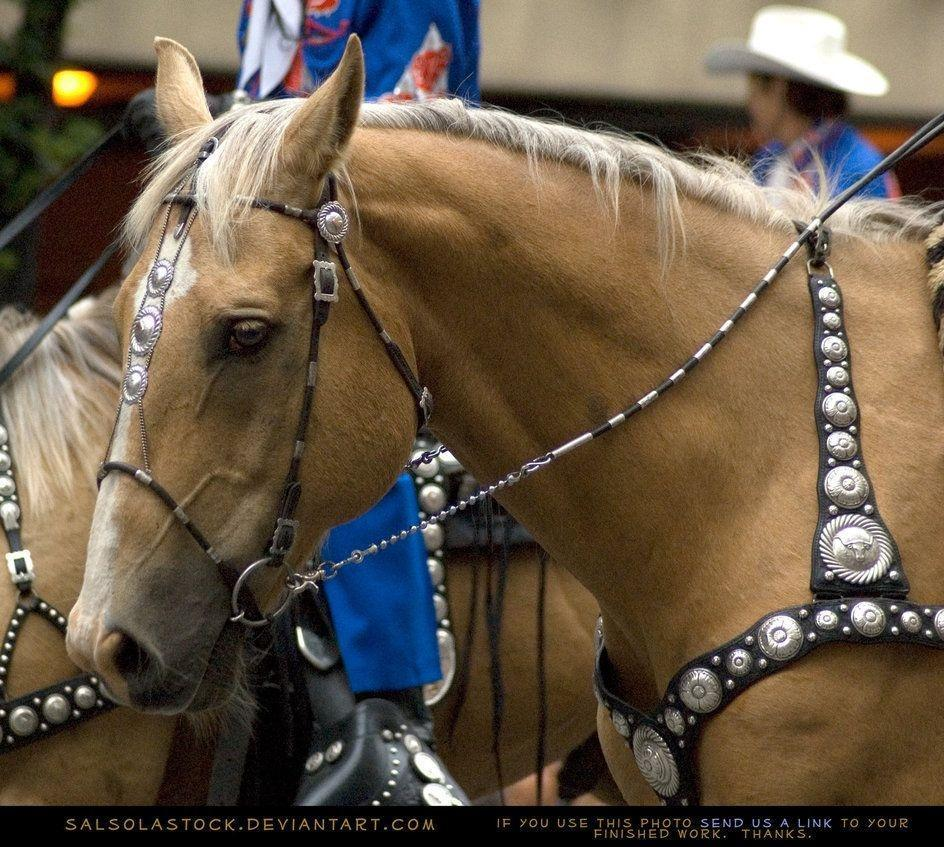horse: (62, 30, 943, 807)
